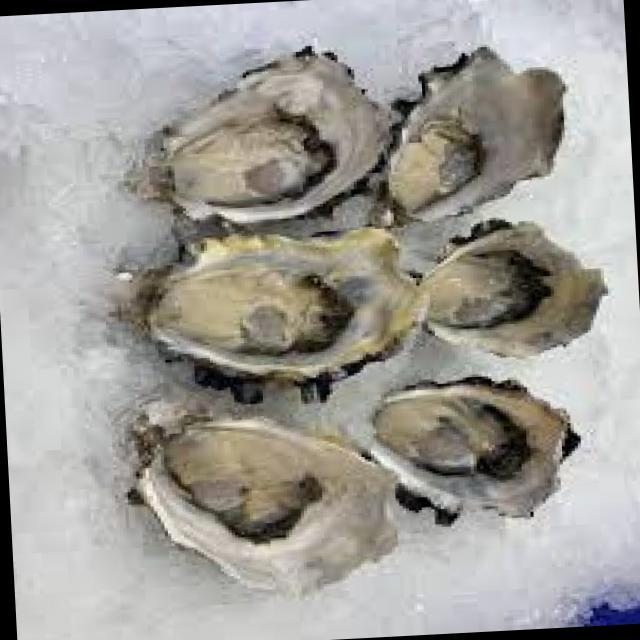Oyster-Open: (139, 421, 396, 594), (129, 228, 418, 381), (148, 50, 389, 224), (359, 376, 580, 524), (389, 46, 565, 219), (421, 219, 606, 356)
